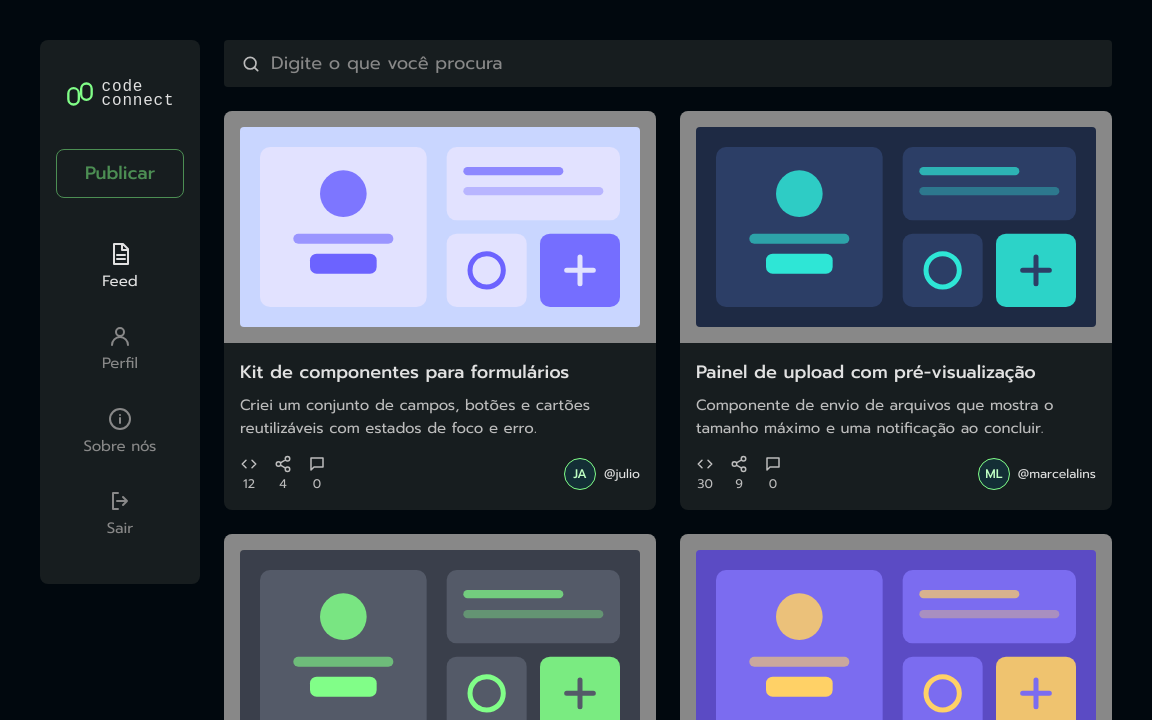
Feed › filtra os posts pela busca e avisa quando não encontra nada
Type "upload" into the search field named "Buscar posts" at (682, 64), box [269,49,1095,78]
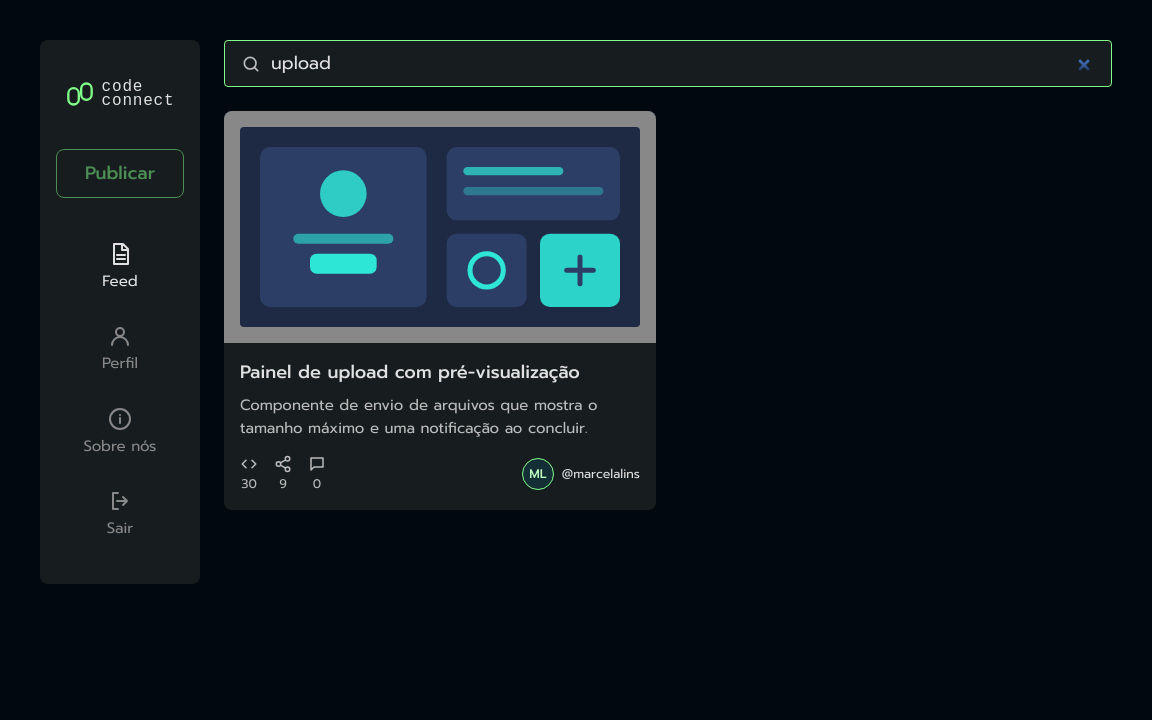
Expected: the heading "Painel de upload com pré-visualização" is shown, [240,358,580,386]
Replace the text in the search field named "Buscar posts" with "xyz" at (682, 64), box [269,49,1095,78]
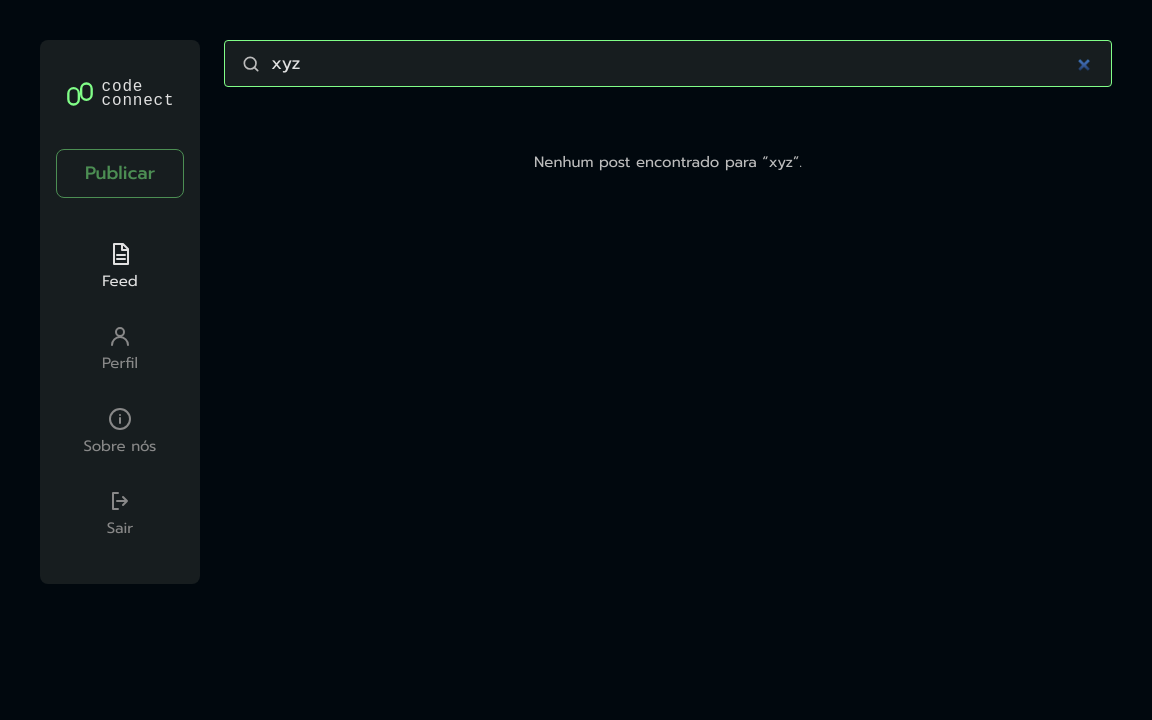
Now the text "Nenhum post encontrado para “xyz”." is shown, box [534,151,802,173]
